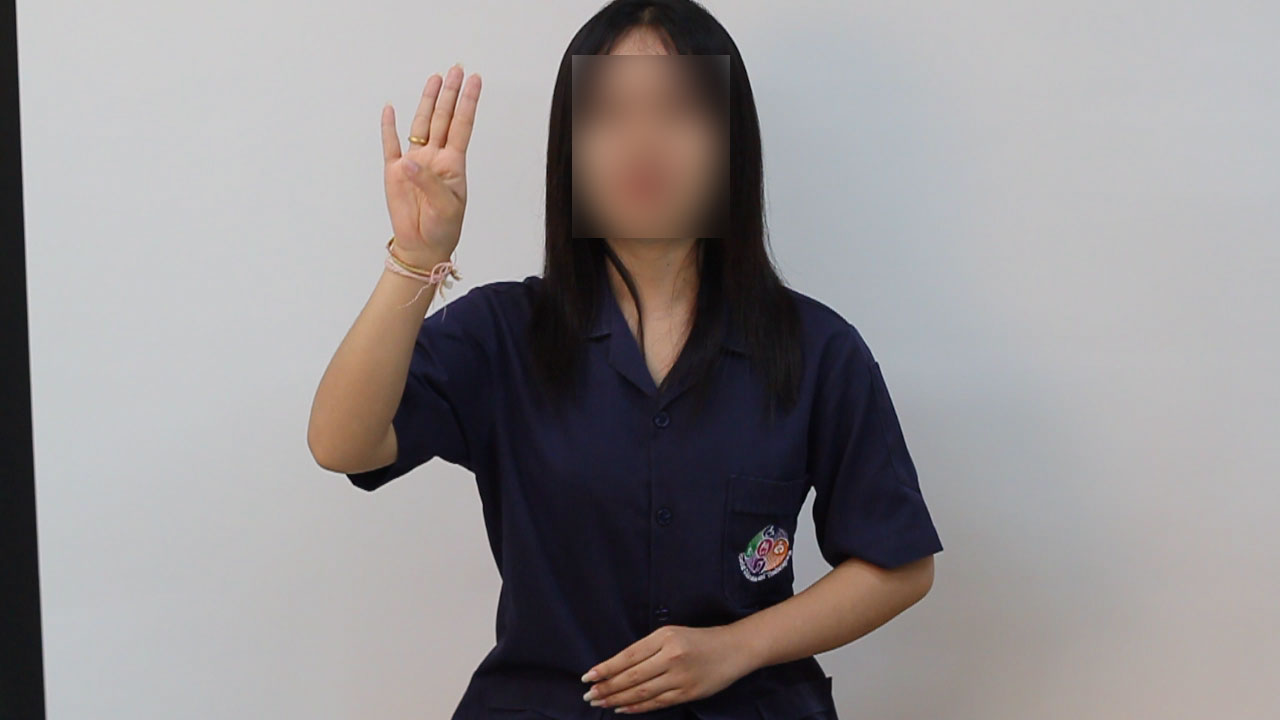bor: (363, 51, 499, 307)
